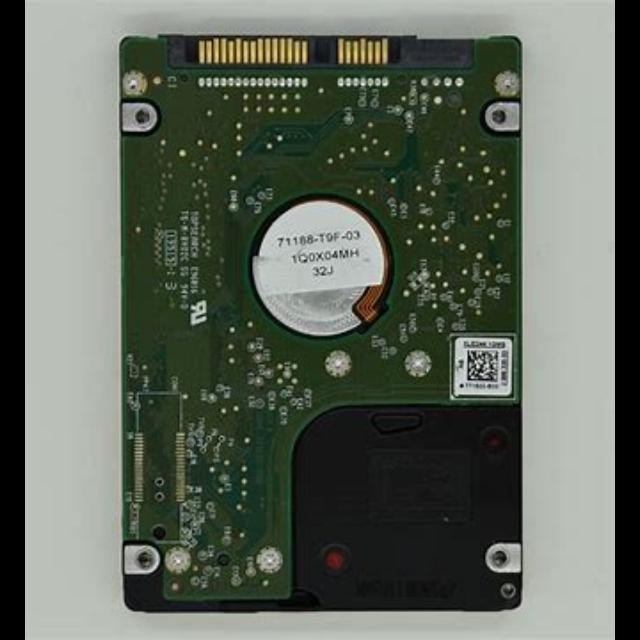HDD: (117, 27, 526, 619)
